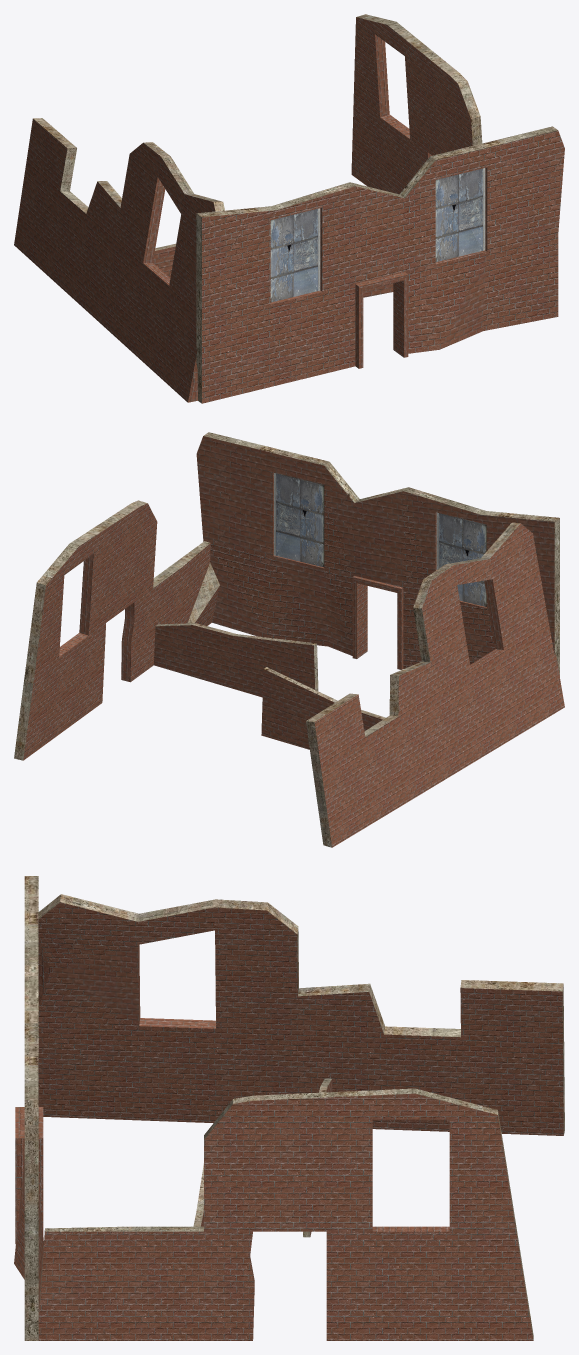
The model's file is building_destroyed_04.fbx.
The picture shows the model from 3 angles, top to bottom: view 1: azimuth 30°, elevation 25°; view 2: azimuth 150°, elevation 25°; view 3: azimuth 270°, elevation 25°; orthographic projection. The views are drawn at different scales.
Visible parts, largest first — view 1: building_destroyed_04; view 2: building_destroyed_04; view 3: building_destroyed_04.
Part boxes in pixels (x1,y1,x2,y2): building_destroyed_04: [14, 14, 564, 403]; building_destroyed_04: [14, 432, 564, 847]; building_destroyed_04: [14, 876, 564, 1340].
Size of the model in its own units: 11.75 by 5.63 by 11.67.
